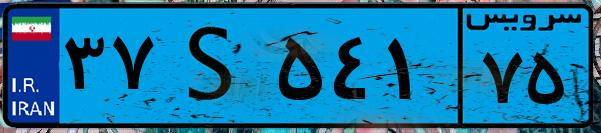1: (385, 28, 445, 110)
3: (57, 26, 110, 100)
4: (330, 28, 385, 110)
5: (270, 28, 330, 110), (525, 38, 570, 115)
7: (475, 38, 525, 113), (110, 28, 158, 98)
S: (158, 12, 270, 120)
